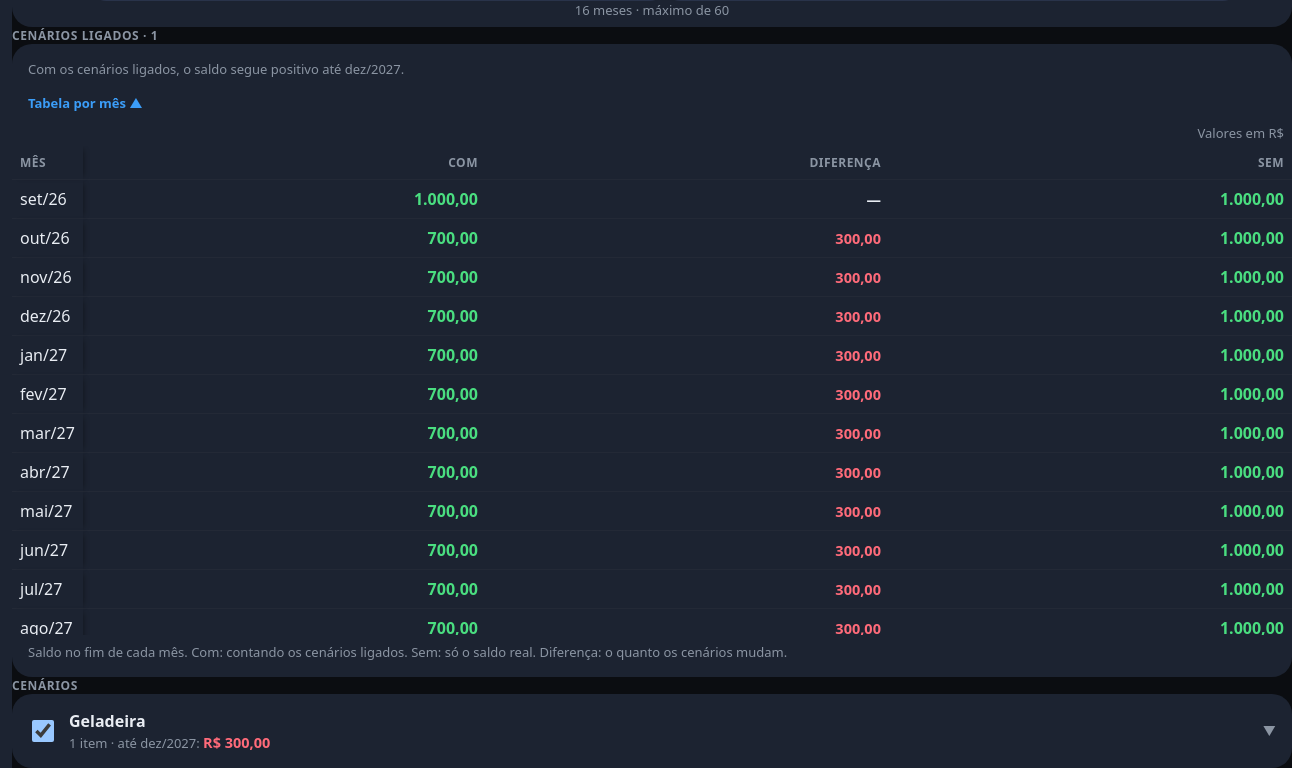
Test: sem cenário ligado a tabela mostra só o saldo real; com um ligado, voltam Com, Diferença e Sem
(page scrolled)
expect the column headings read "Mês", "Com", "Diferença", "Sem", in this order: met, box [12,146,83,180]; [83,146,486,180]; [486,146,889,180]; [889,146,1291,180]
Click the checkbox named "Ligar Geladeira".
click(43, 731)  # box [32,720,54,742]
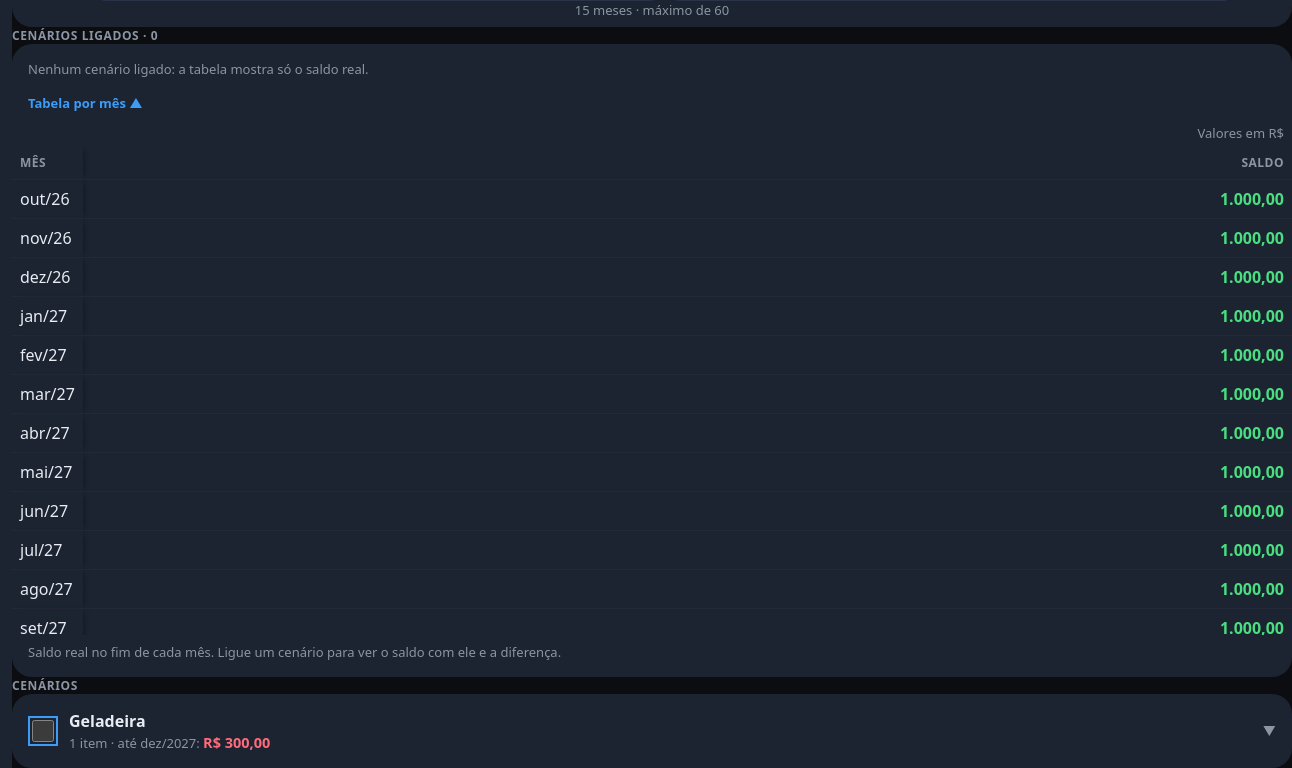
expect the text "Nenhum cenário ligado: a tabela mostra só o saldo real." is shown: met, box [28,60,369,78]
expect the column headings read "Mês", "Saldo", in this order: met, box [12,146,83,180]; [83,146,1291,180]
